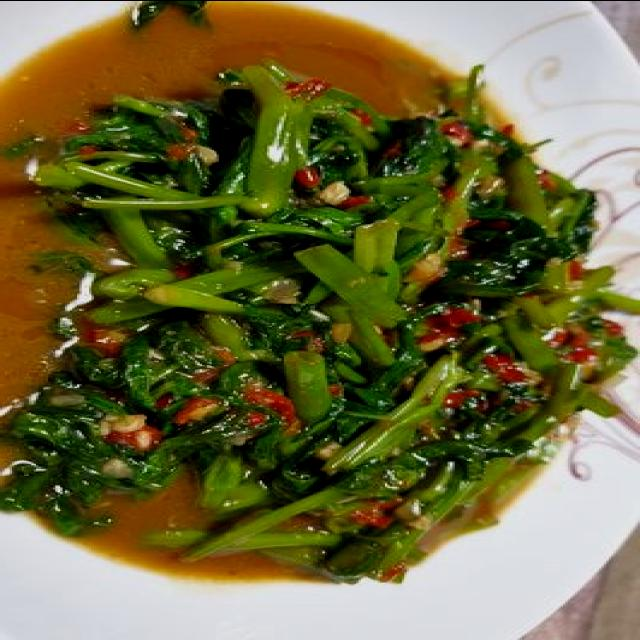tumis kangkung: (0, 0, 640, 582)
